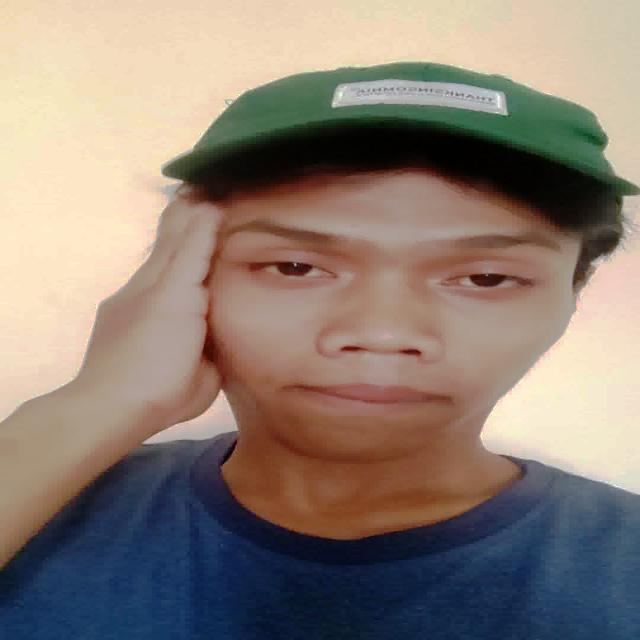TOPI: (120, 47, 640, 215)
